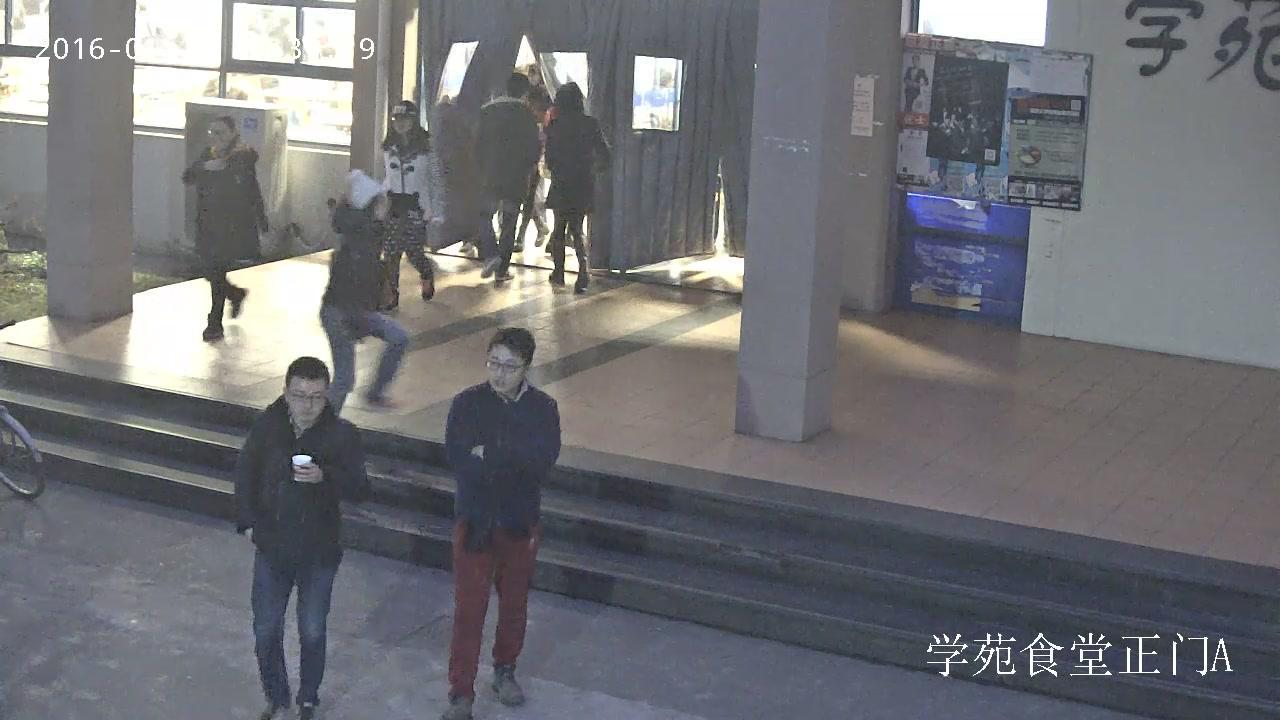person: (235, 356, 364, 720), (445, 326, 558, 720), (320, 169, 408, 414), (181, 117, 266, 341), (543, 83, 607, 291), (475, 72, 537, 280), (381, 100, 436, 309), (512, 141, 549, 253), (904, 55, 928, 111)
